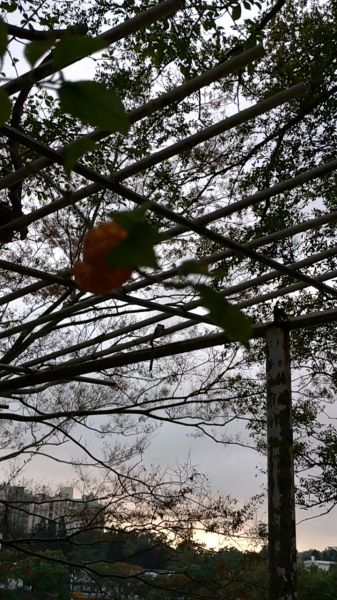eggs: (73, 220, 137, 300)
